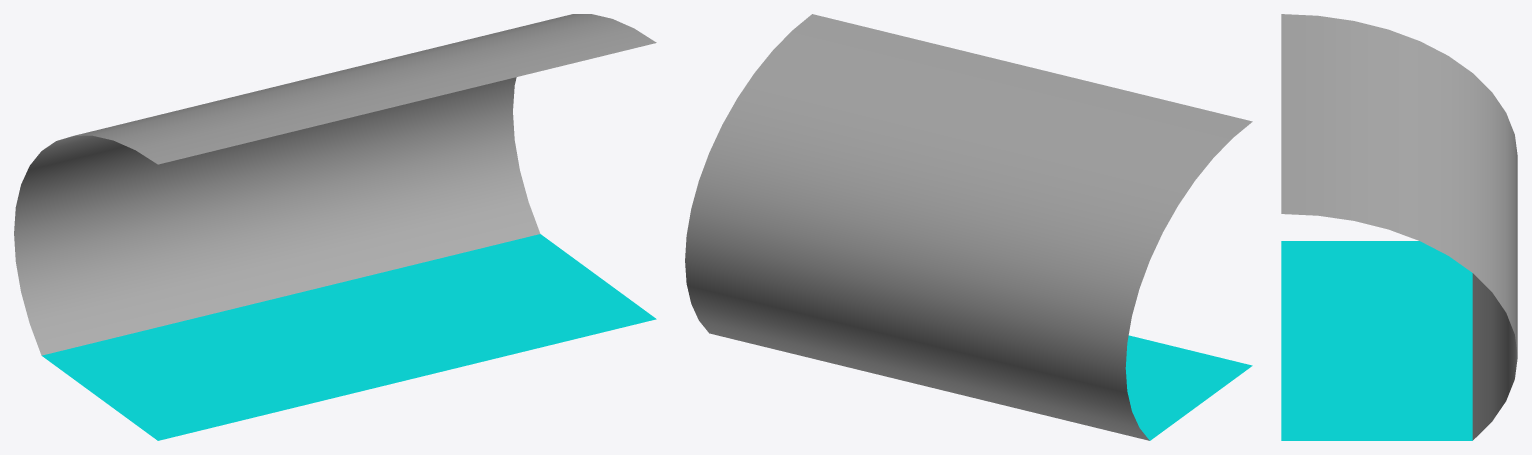
File: sm_tunnel.fbx
The picture shows the model from 3 angles, left to right: view 1: azimuth 30°, elevation 25°; view 2: azimuth 150°, elevation 25°; view 3: azimuth 270°, elevation 25°; orthographic projection. The views are drawn at different scales.
Parts seen in each view (by area): view 1: sm_tunnel; view 2: sm_tunnel; view 3: sm_tunnel.
Boxes of the visible parts, <box> form: sm_tunnel: <box>14,14,656,440</box>; sm_tunnel: <box>685,14,1252,440</box>; sm_tunnel: <box>1281,14,1517,440</box>.
Bounding box in the file's own units: 24 × 12.7 × 12.
